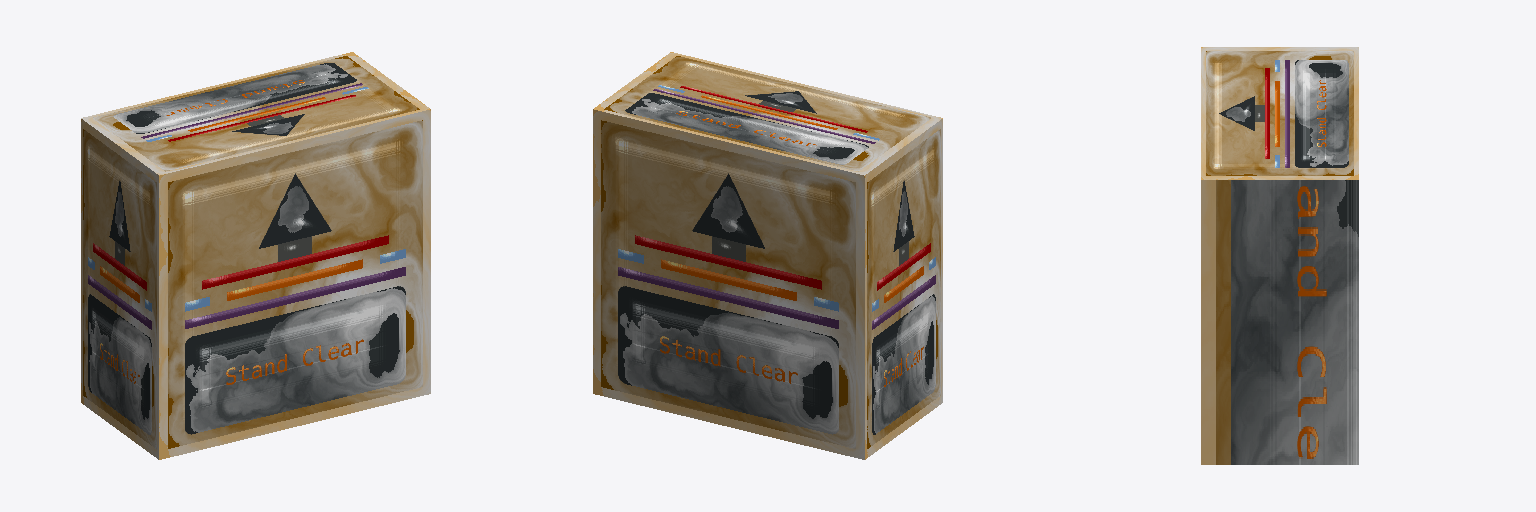
3 renders of one model, left to right at view 1: azimuth 30°, elevation 25°; view 2: azimuth 150°, elevation 25°; view 3: azimuth 270°, elevation 25°, orthographic.
Visible parts, largest first — view 1: Cube; view 2: Cube; view 3: Cube.
Part boxes in pixels (left/top/right/bottom): Cube: left=81, top=52, right=430, bottom=459; Cube: left=593, top=52, right=942, bottom=459; Cube: left=1201, top=47, right=1358, bottom=464.
Bounding box in the file's own units: 1 × 1 × 0.5.
Materials: 1 (1 with a texture image).